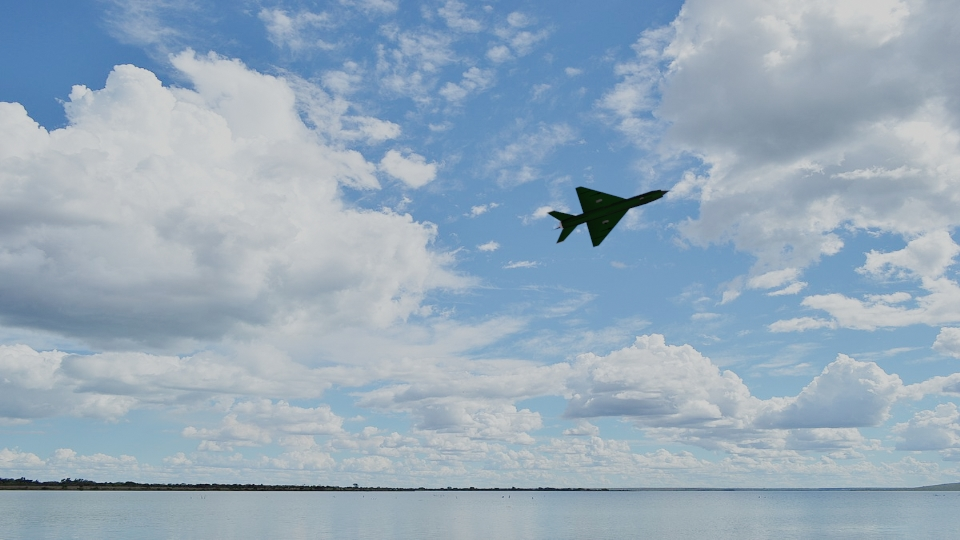plane: (546, 183, 668, 245)
